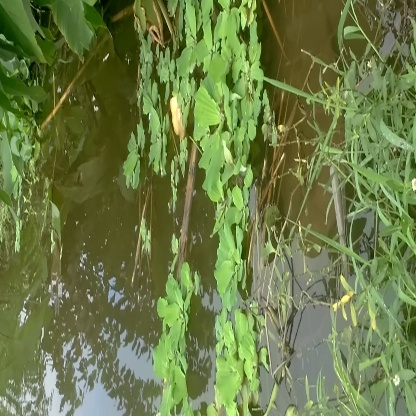branch: (159, 135, 208, 282)
